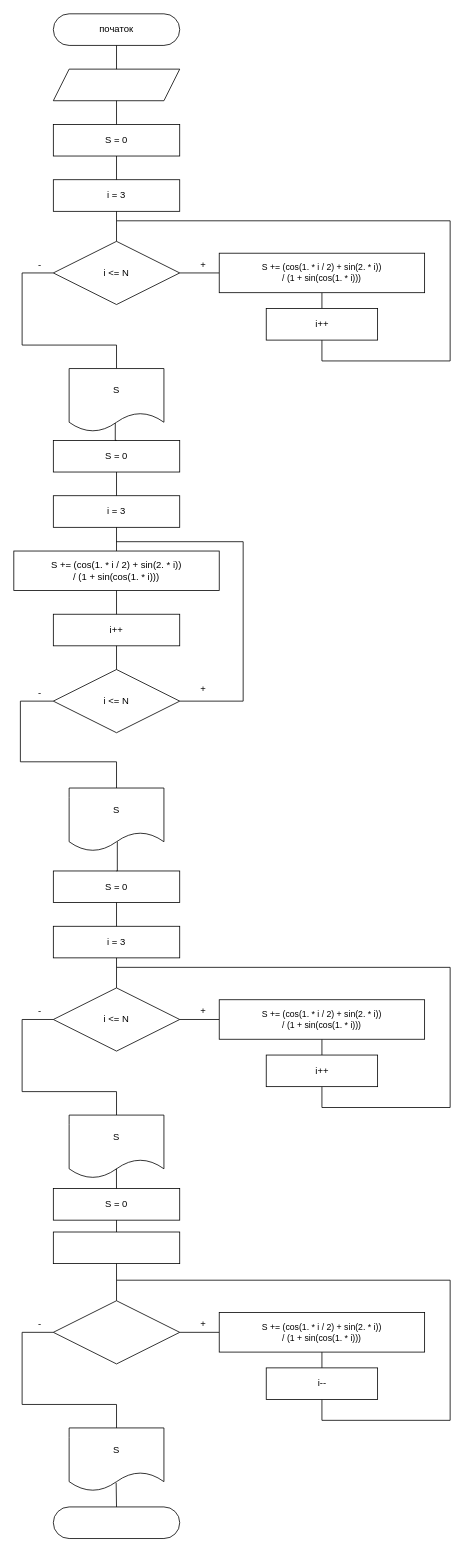
This 465x1552 diagram has some shape labels left out. Here are the shapes that lost their labels. From the top down, the centre of each, then its label:
At point 116,84: "ввід N".
At point 116,1247: "i =N".
At point 116,1332: "i >= 3".
At point 116,1522: "кінець".
